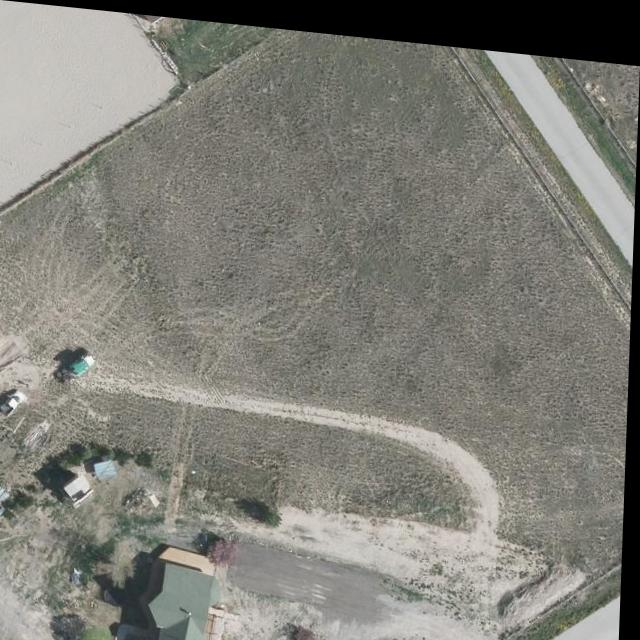vehicle: (57, 342, 100, 391), (4, 389, 31, 418)
